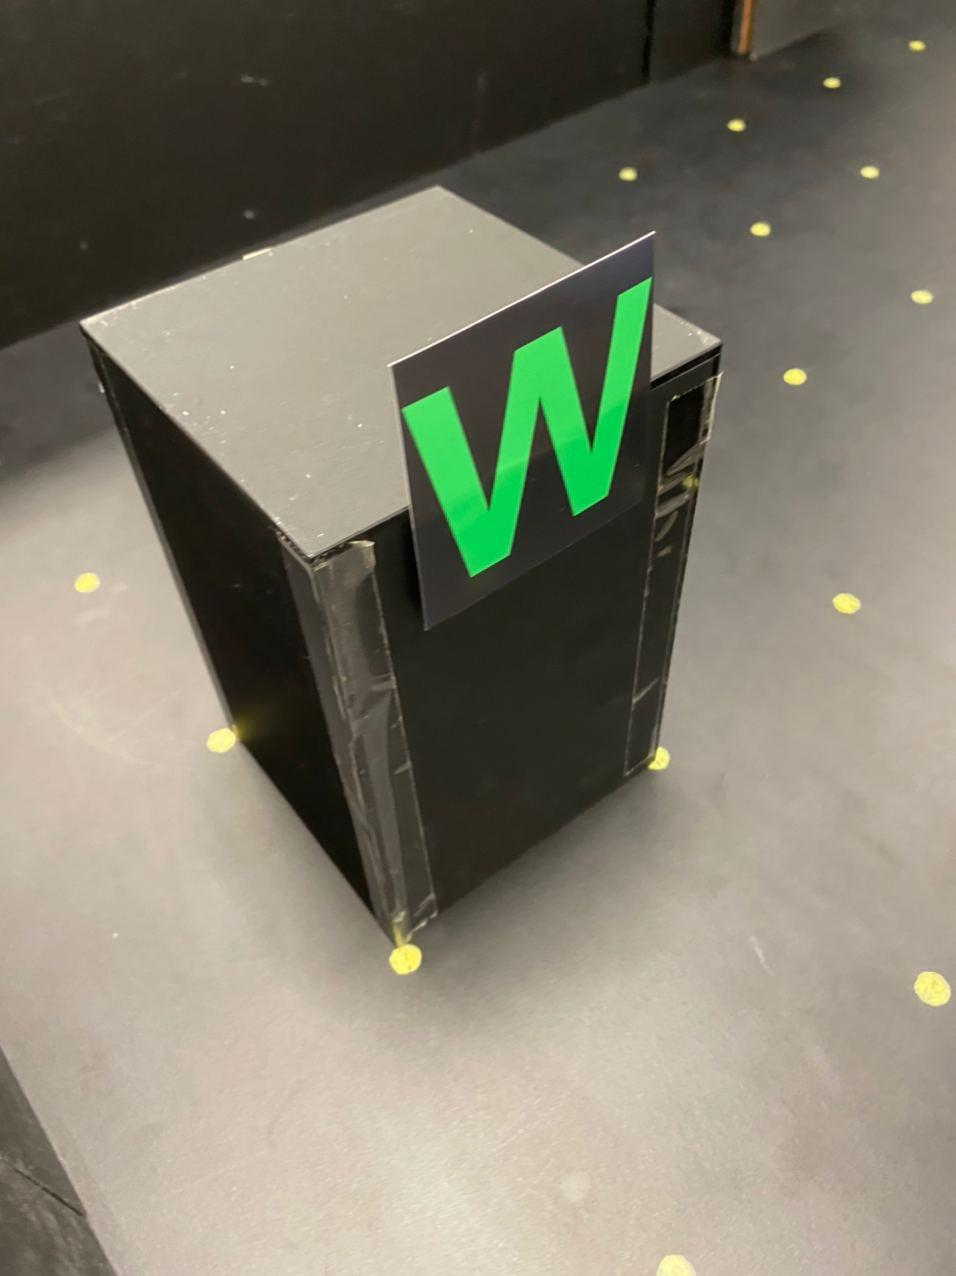w: (388, 273, 678, 578)
